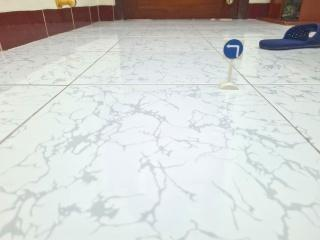left: (219, 34, 249, 64)
